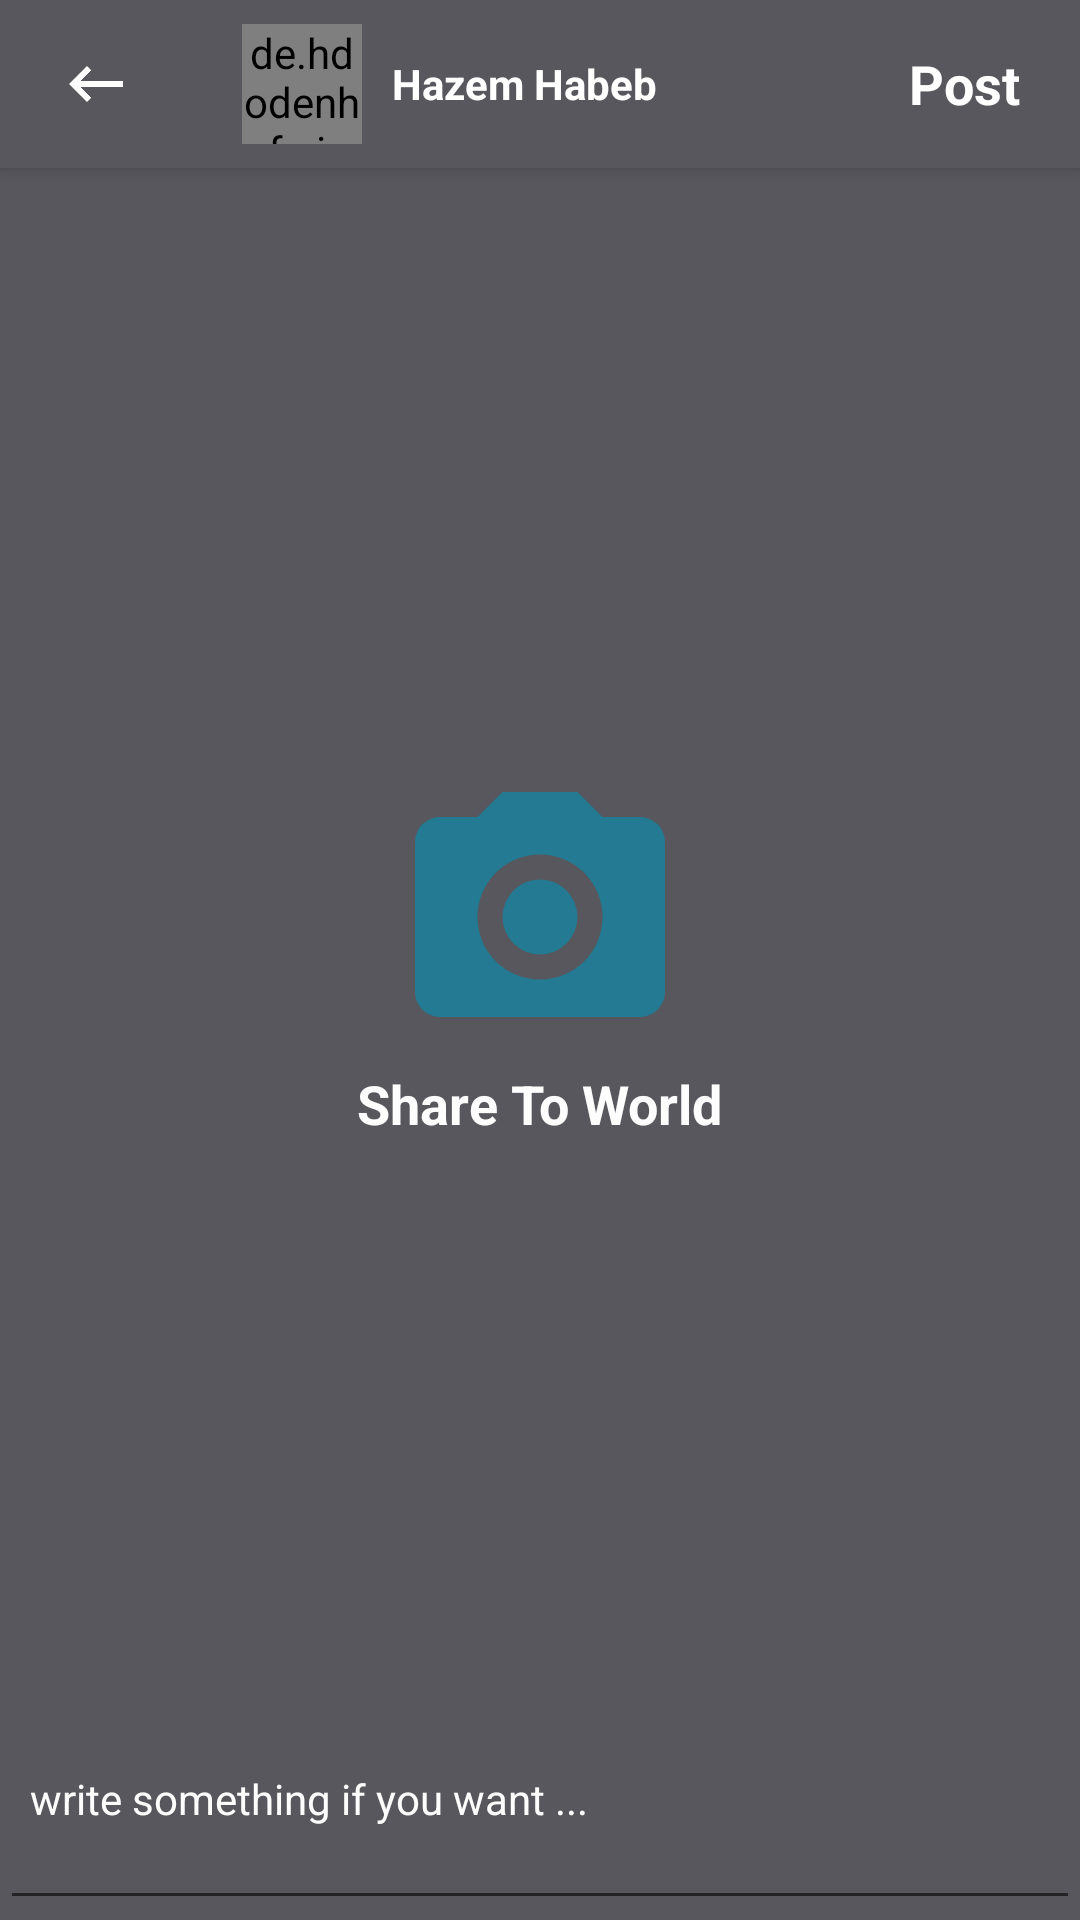

Point at icon controls on the screen. Image size 1080 x 1920, points as (x=x, y=y).
camera: (x=540, y=904)
keyboard backspace: (x=96, y=84)
